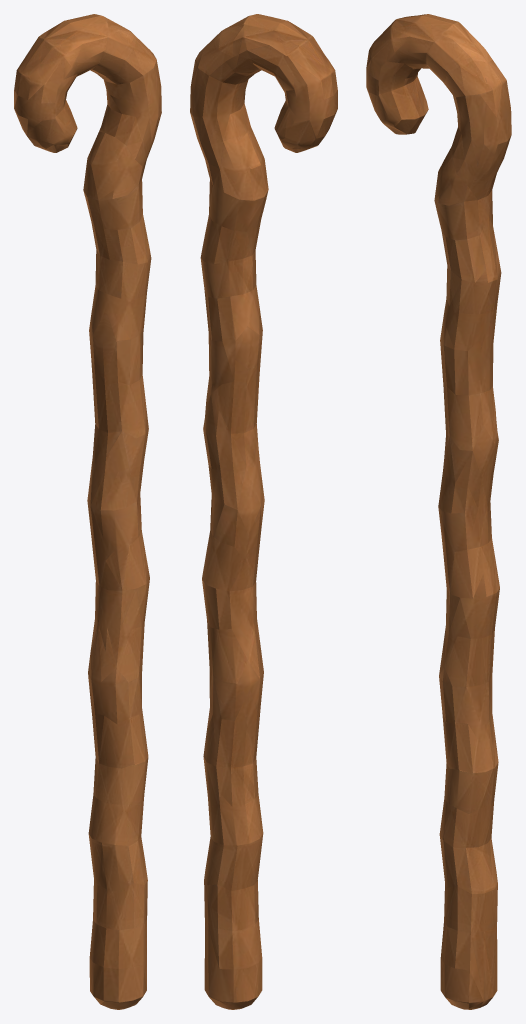
Rendered from staff-shepherd.glb.
3 renders of one model, left to right at view 1: azimuth 30°, elevation 25°; view 2: azimuth 150°, elevation 25°; view 3: azimuth 330°, elevation 25°, orthographic.
Bounding box in the file's own units: 0.2798 × 1.9 × 0.1026.
Materials: 1 (1 with a texture image).
